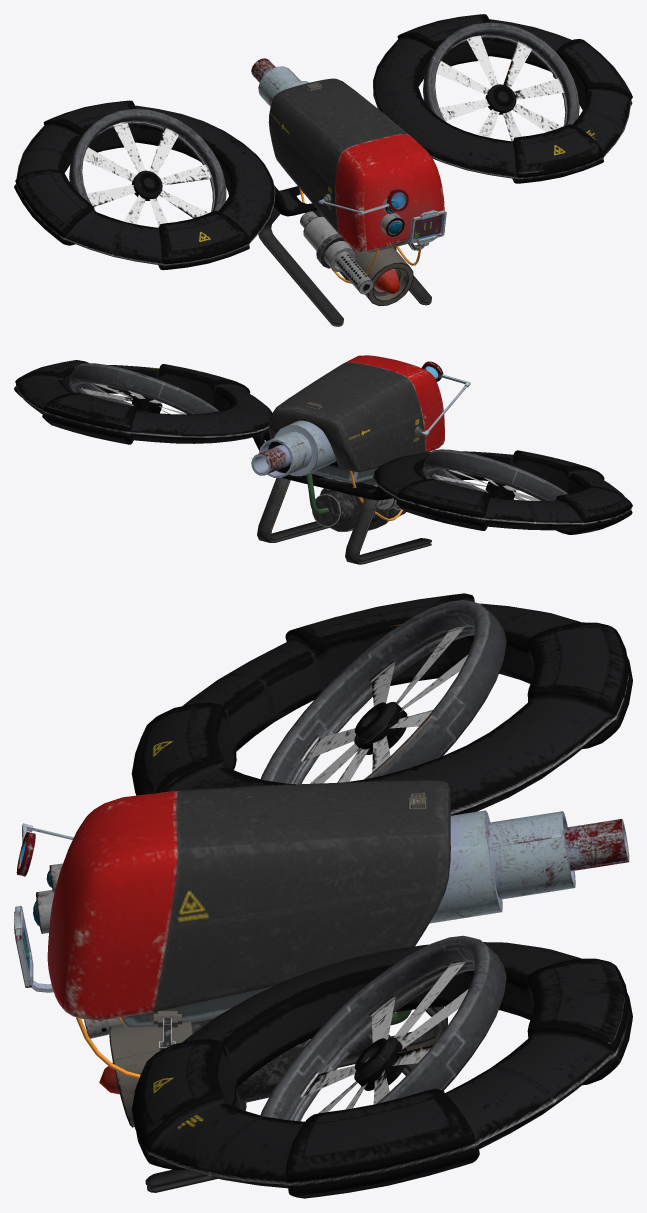
Rendered from mascot.glb.
The picture shows the model from 3 angles, top to bottom: view 1: azimuth 30°, elevation 25°; view 2: azimuth 150°, elevation 25°; view 3: azimuth 270°, elevation 25°; orthographic projection. The views are drawn at different scales.
Parts seen in each view (by area): view 1: Cube.007, Cylinder.022; view 2: Cube.007, Cylinder.022; view 3: Cube.007, Cylinder.022.
Part boxes in pixels (x1=…): Cube.007: x1=14, y1=14, x2=632, y2=326; Cylinder.022: x1=251, y1=58, x2=446, y2=306; Cube.007: x1=14, y1=355, x2=632, y2=564; Cylinder.022: x1=251, y1=361, x2=470, y2=531; Cube.007: x1=33, y1=593, x2=632, y2=1198; Cylinder.022: x1=14, y1=792, x2=629, y2=1127.
Size of the model in its own units: 2 by 0.6065 by 0.9466.
Materials: 2 (2 with a texture image).
